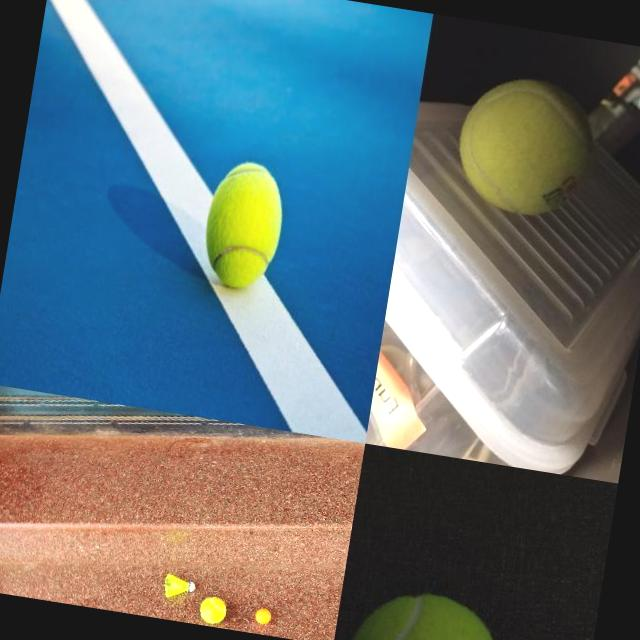Tennis Ball: (448, 67, 604, 225), (198, 156, 292, 294), (349, 582, 511, 640), (199, 595, 229, 626)
